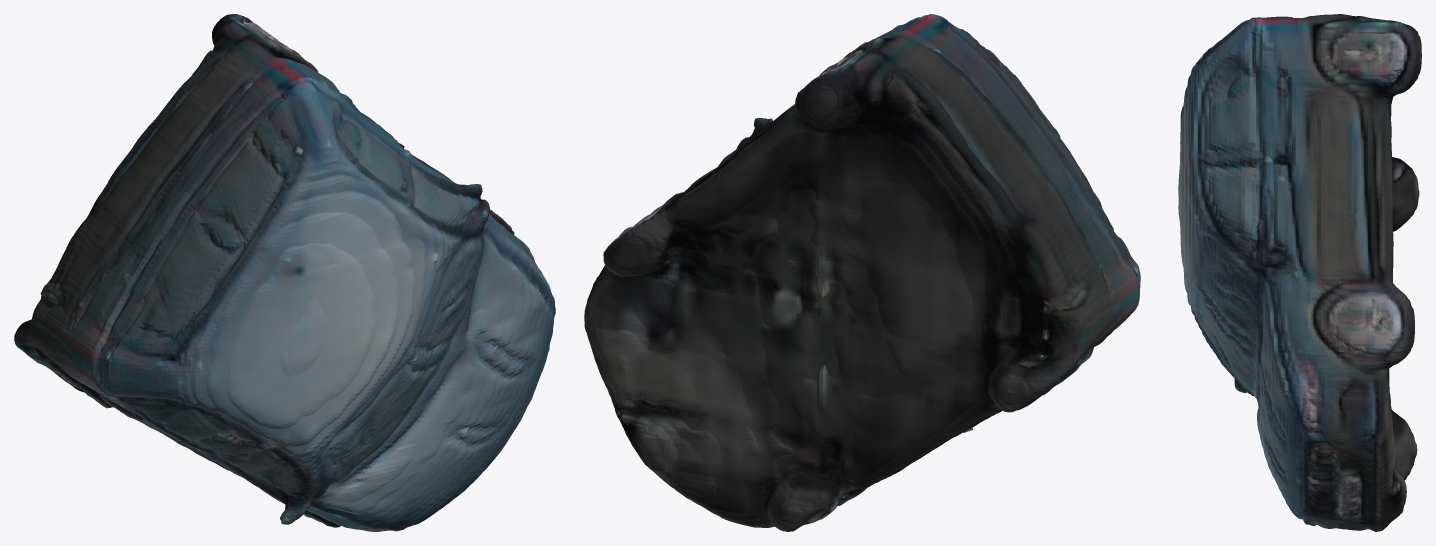
The picture shows the model from 3 angles, left to right: view 1: azimuth 30°, elevation 25°; view 2: azimuth 150°, elevation 25°; view 3: azimuth 270°, elevation 25°; orthographic projection. The views are drawn at different scales.
Visible parts, largest first — view 1: world; view 2: world; view 3: world.
Boxes of the visible parts, x1,y1,x2,y2 form: world: (14,14,555,531); world: (584,14,1140,531); world: (1178,14,1421,531).
Size of the model in its own units: 0.9655 by 0.9398 by 0.4769.
